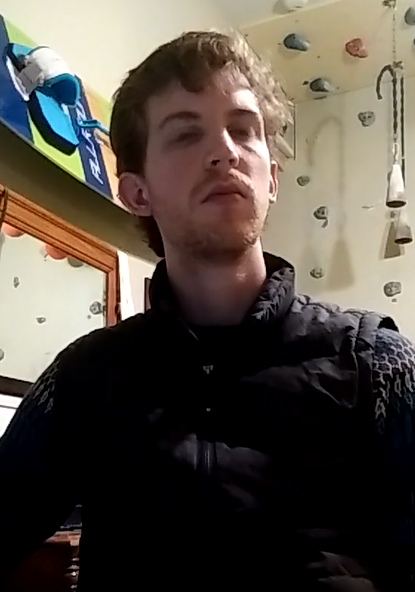Half Asleep: (153, 106, 267, 155)
